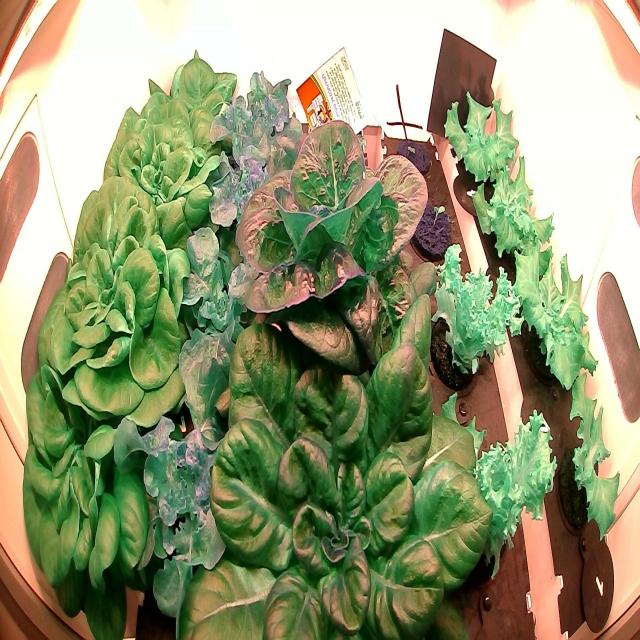Ready: (164, 271, 499, 640), (212, 102, 437, 405), (31, 173, 204, 422), (17, 366, 158, 640), (95, 92, 223, 236), (133, 41, 239, 165)
germination: (408, 187, 458, 266), (388, 126, 438, 187)
